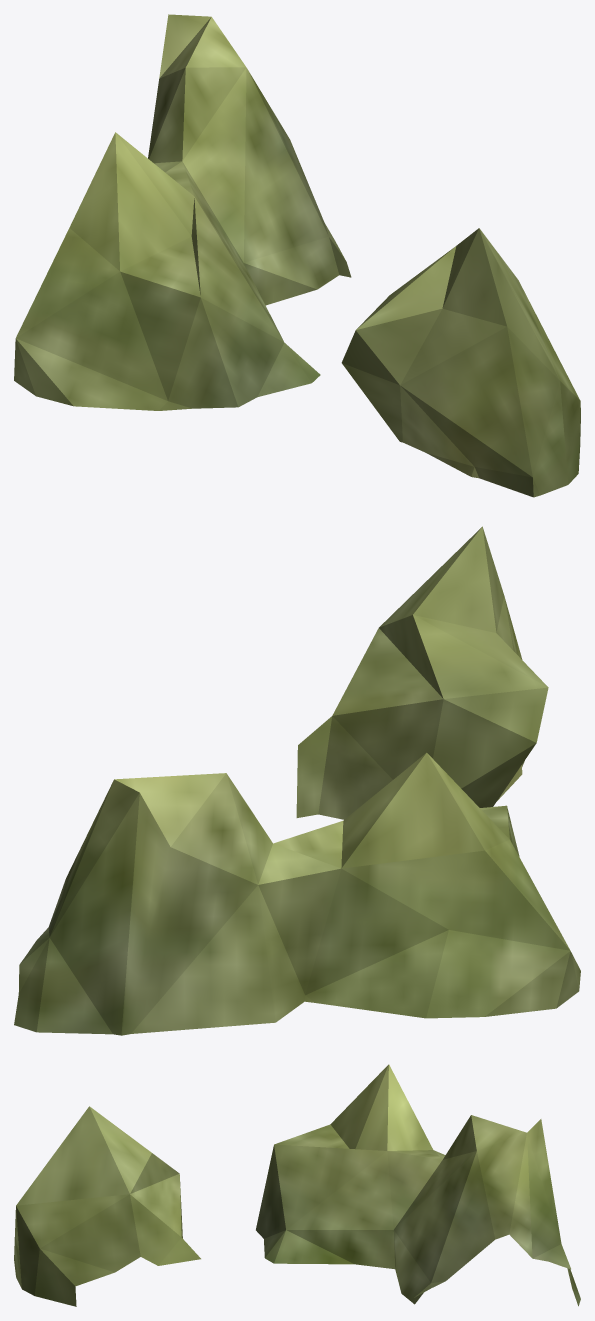
3 renders of one model, top to bottom at view 1: azimuth 30°, elevation 25°; view 2: azimuth 150°, elevation 25°; view 3: azimuth 270°, elevation 25°, orthographic. The views are drawn at different scales.
Size of the model in its own units: 1.75 by 1.07 by 3.27.
Materials: 1 (1 with a texture image).
